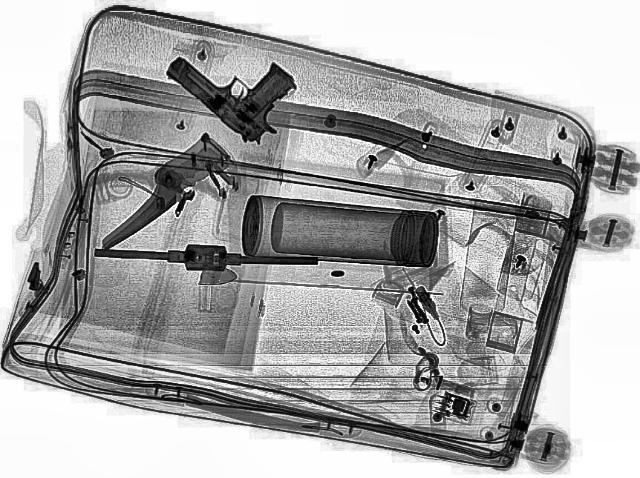Gun: (155, 27, 327, 147)
